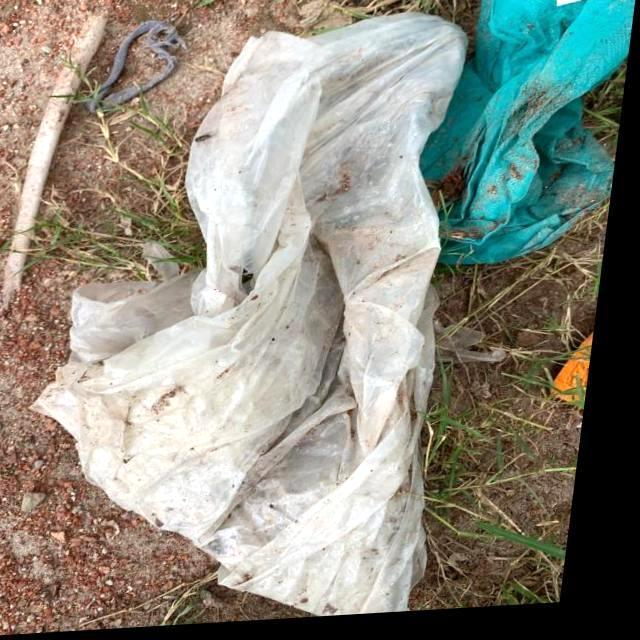polythene: (156, 57, 446, 584)
